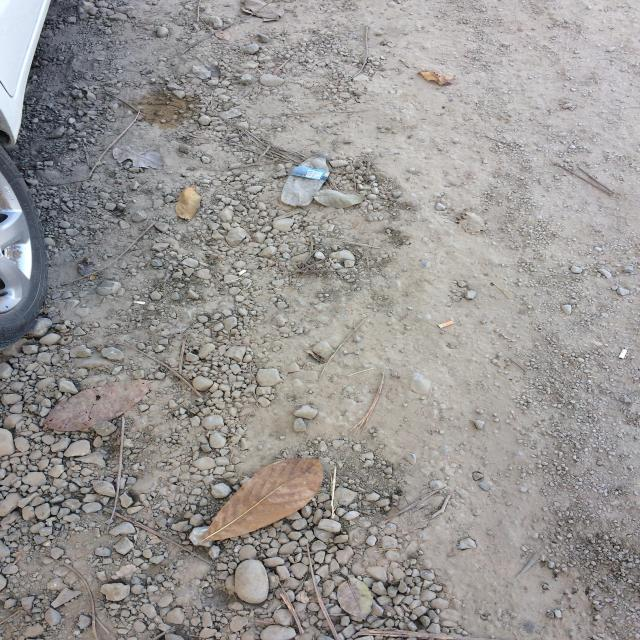litter: (280, 149, 328, 219)
